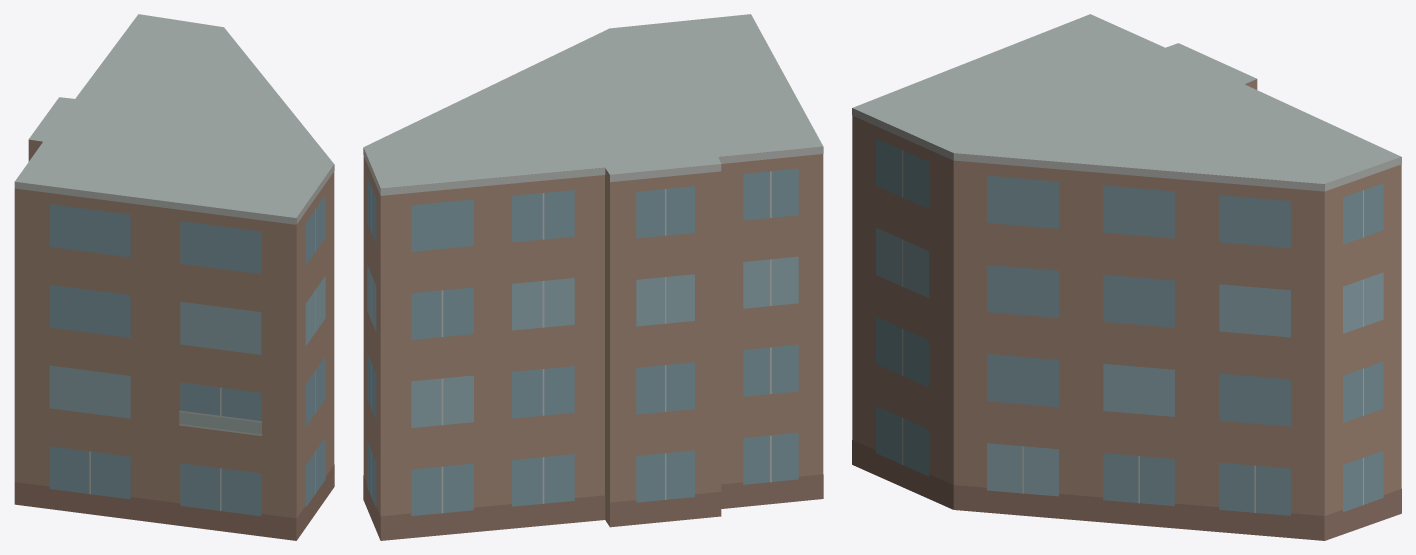
Rendered from survey-upis-32821827.glb.
3 renders of one model, left to right at view 1: azimuth 30°, elevation 25°; view 2: azimuth 150°, elevation 25°; view 3: azimuth 270°, elevation 25°, orthographic. The views are drawn at different scales.
Parts seen in each view (by area): view 1: survey-upis-32821827.tmp; view 2: survey-upis-32821827.tmp; view 3: survey-upis-32821827.tmp.
Part boxes in pixels (x1,y1,x2,y2): survey-upis-32821827.tmp: (14,14,334,540); survey-upis-32821827.tmp: (363,14,823,540); survey-upis-32821827.tmp: (852,14,1401,540).
Size of the model in its own units: 11.97 by 11.7 by 16.34.
